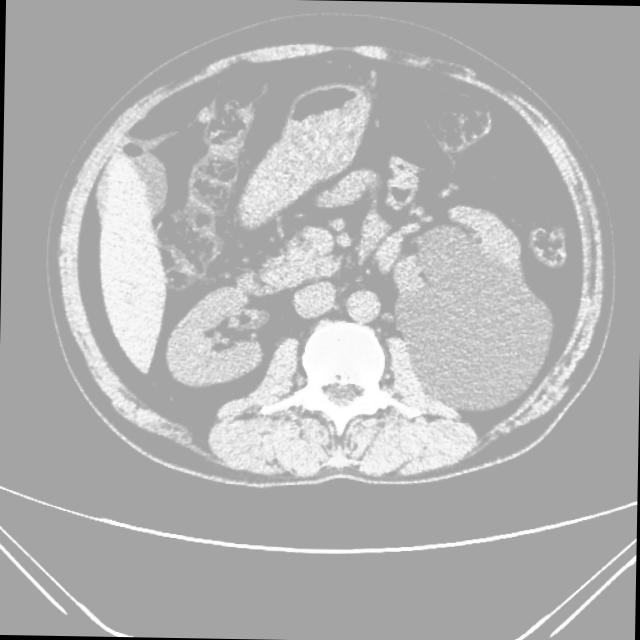cysts: (51, 33, 608, 490)
